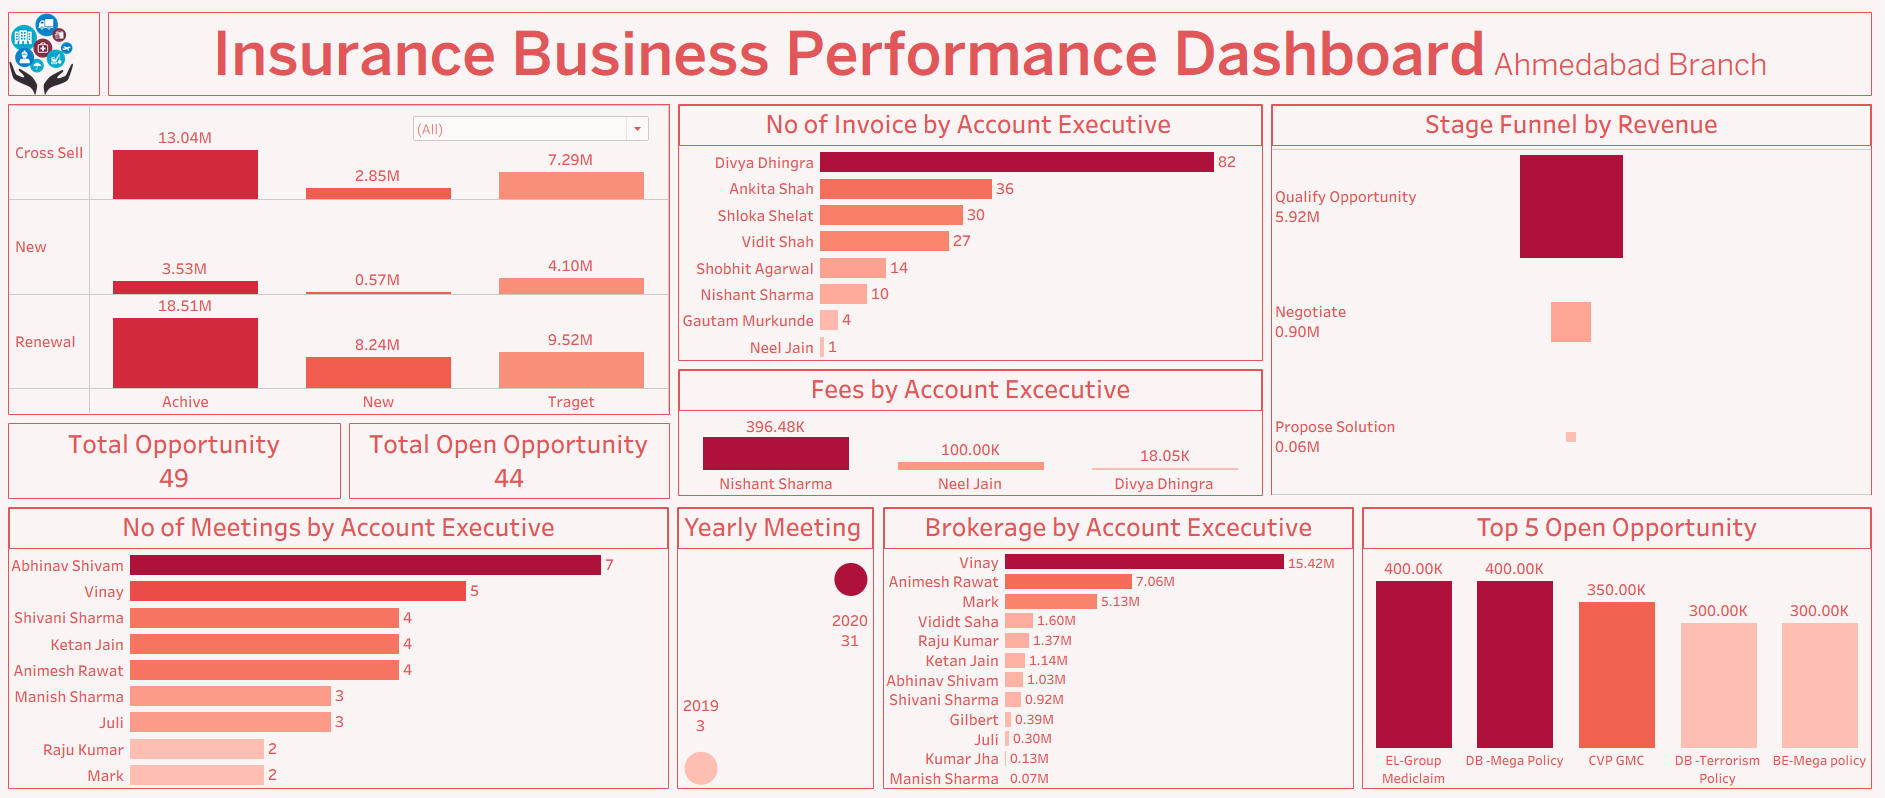

What the dashboard file says about the page in this screenshot:
{"tool":"tableau","page":{"name":"Dashboard 1","canvas":[1000,1000],"units":"permille","ordinal":0},"visuals":[{"type":"image","param":"Image/insurance.png","box":[4.2,10,53,114.6]},{"type":"title","box":[57.2,10,938.6,114.6]},{"type":"worksheet","title":"KPIs","mark":"Automatic","rows":["Type"],"box":[4.2,124.6,354.7,398]},{"type":"worksheet","title":"Inv. No.","mark":"Automatic","rows":["Account Executive"],"cols":["invoice_number"],"box":[358.9,124.6,314.3,331.3]},{"type":"worksheet","title":"Funnel","mark":"Automatic","rows":["stage"],"box":[673.2,124.6,322.6,498.9]},{"type":"filter","title":"KPIs","param":"[federated.18vvg6519w4prg19lu3xx0t1hpv2].[none:Type:nk]","box":[219.1,141.1,127.9,40]},{"type":"worksheet","title":"Fees","mark":"Automatic","rows":["Amount"],"cols":["Account Executive"],"box":[358.9,455.9,314.3,168.2]},{"type":"worksheet","title":"Total Oppo.","mark":"Automatic","box":[4.2,522.6,180.7,105.2]},{"type":"worksheet","title":"Total Open","mark":"Automatic","box":[184.9,522.6,174,105.2]},{"type":"worksheet","title":"No of meeting","mark":"Automatic","rows":["Account Executive"],"cols":["meeting_date"],"box":[4.2,627.9,354.5,362.1]},{"type":"worksheet","title":"Meeting count","mark":"Line","rows":["Account Executive"],"cols":["meeting_date"],"box":[358.7,627.9,108.8,362.1]},{"type":"worksheet","title":"Brokerage","mark":"Automatic","rows":["Account Executive"],"cols":["Amount"],"box":[467.5,627.9,253.8,362.1]},{"type":"worksheet","title":"Top open","mark":"Automatic","rows":["revenue_amount"],"cols":["opportunity_name"],"box":[721.3,627.9,274.5,362.1]}]}

Visuals, with their boxes on the dashboard's canvas, which has no fixed pixel size, in thousandths of its width and height (x1, y1, x2, y2). These are canvas units, not pixel positions in the 1885x798 screenshot, which may show the page scaled, cropped or inside an application window:
image: [4,10,57,125]
title: [57,10,996,125]
"KPIs" worksheet: [4,125,359,523]
"Inv. No." worksheet: [359,125,673,456]
"Funnel" worksheet: [673,125,996,624]
"KPIs" filter: [219,141,347,181]
"Fees" worksheet: [359,456,673,624]
"Total Oppo." worksheet: [4,523,185,628]
"Total Open" worksheet: [185,523,359,628]
"No of meeting" worksheet: [4,628,359,990]
"Meeting count" worksheet (Line marks): [359,628,468,990]
"Brokerage" worksheet: [468,628,721,990]
"Top open" worksheet: [721,628,996,990]
